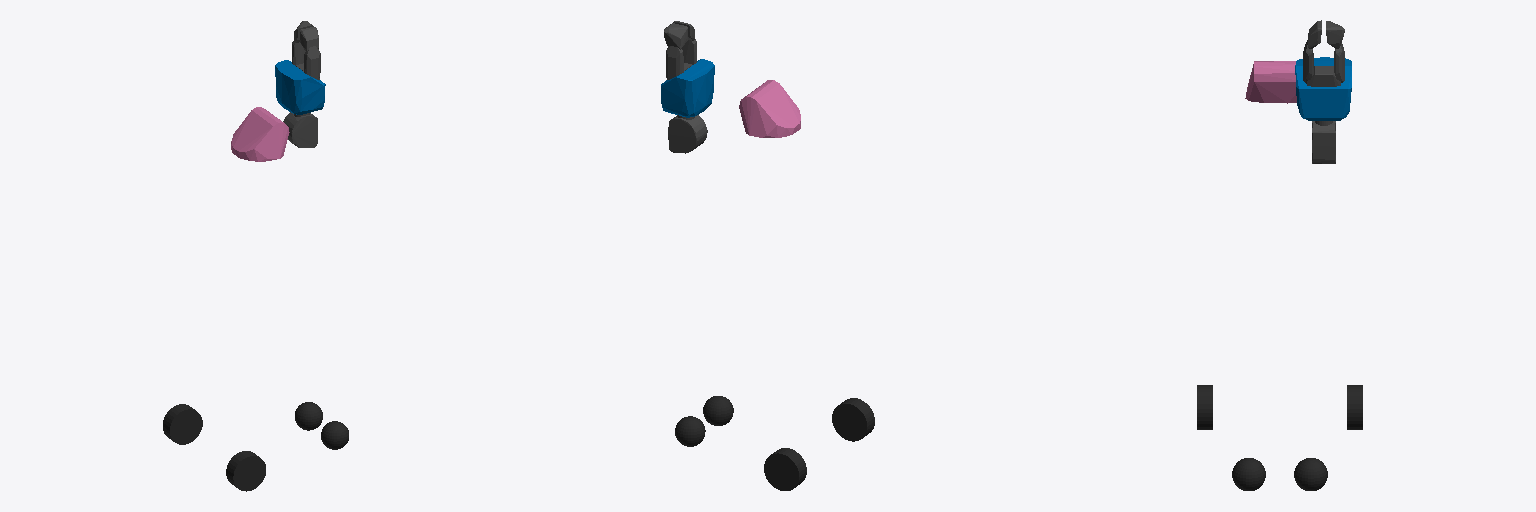
--- Facts derived from the render (not from the file) ---
Views: 3 orthographic renders of the robot side by side, from view 1: azimuth 30°, elevation 25°; view 2: azimuth 150°, elevation 25°; view 3: azimuth 270°, elevation 25°.
Model hsrb with 46 links and 45 joints (15 revolute, 9 continuous, 2 prismatic, 19 fixed), rooted at base_footprint, posed every joint at zero.
Links seen in each view (by area): view 1: head_pan_link, wrist_roll_link, base_l_drive_wheel_link, base_r_drive_wheel_link, wrist_flex_link, base_r_passive_wheel_z_link, base_l_passive_wheel_z_link; view 2: head_pan_link, wrist_roll_link, base_r_drive_wheel_link, base_l_drive_wheel_link, wrist_flex_link, base_r_passive_wheel_z_link, base_l_passive_wheel_z_link; view 3: wrist_roll_link, head_pan_link, wrist_flex_link, base_r_passive_wheel_z_link, base_l_passive_wheel_z_link, base_r_drive_wheel_link, base_l_drive_wheel_link, hand_palm_link.
Link boxes in pixels (x1,y1,x2,y2): head_pan_link: (231, 107, 289, 161); wrist_roll_link: (275, 60, 325, 114); base_l_drive_wheel_link: (163, 404, 202, 444); base_r_drive_wheel_link: (226, 451, 265, 491); wrist_flex_link: (283, 112, 317, 147); base_r_passive_wheel_z_link: (321, 421, 348, 449); base_l_passive_wheel_z_link: (295, 402, 322, 430); head_pan_link: (739, 80, 800, 137); wrist_roll_link: (661, 59, 714, 117); base_r_drive_wheel_link: (832, 398, 874, 441); base_l_drive_wheel_link: (764, 448, 806, 490); wrist_flex_link: (668, 115, 707, 153); base_r_passive_wheel_z_link: (703, 396, 733, 425); base_l_passive_wheel_z_link: (675, 416, 705, 446); wrist_roll_link: (1295, 57, 1351, 120); head_pan_link: (1245, 61, 1296, 103); wrist_flex_link: (1312, 121, 1335, 163); base_r_passive_wheel_z_link: (1232, 458, 1265, 490); base_l_passive_wheel_z_link: (1294, 458, 1327, 490); base_r_drive_wheel_link: (1197, 385, 1212, 429); base_l_drive_wheel_link: (1347, 385, 1362, 429); hand_palm_link: (1307, 66, 1340, 86).
Bounding box of the posed robot: 0.3295 × 0.296 × 0.9163 m (x, y, z).
Meshes: 21 distinct files referenced, 8 mesh visuals loaded (8 OBJ); not drawn: 14 (reference not matched to a file when rendering).

The robot description file, URDF, robot "hsrb":
<?xml version="1.0" ?>
<!-- =================================================================================== -->
<!-- |    This document was autogenerated by xacro from [local-path]/ros_ws/ros/src/hsr_description/robots/hsrb4s.urdf.xacro | -->
<!-- |    EDITING THIS FILE BY HAND IS NOT RECOMMENDED                                 | -->
<!-- =================================================================================== -->
<!--
Copyright (c) 2017, Toyota Motor Corporation
All rights reserved.

Redistribution and use in source and binary forms, with or without
modification, are permitted provided that the following conditions are met:

 * Redistributions of source code must retain the above copyright notice,
   this list of conditions and the following disclaimer.
 * Redistributions in binary form must reproduce the above copyright
   notice, this list of conditions and the following disclaimer in the
   documentation and/or other materials provided with the distribution.
 * Neither the name of Toyota Motor Corporation nor the names of its
   contributors may be used to endorse or promote products derived from
   this software without specific prior written permission.

THIS SOFTWARE IS PROVIDED BY THE COPYRIGHT HOLDERS AND CONTRIBUTORS "AS IS"
AND ANY EXPRESS OR IMPLIED WARRANTIES, INCLUDING, BUT NOT LIMITED TO, THE
IMPLIED WARRANTIES OF MERCHANTABILITY AND FITNESS FOR A PARTICULAR PURPOSE
ARE DISCLAIMED. IN NO EVENT SHALL THE COPYRIGHT OWNER OR CONTRIBUTORS BE
LIABLE FOR ANY DIRECT, INDIRECT, INCIDENTAL, SPECIAL, EXEMPLARY, OR
CONSEQUENTIAL DAMAGES (INCLUDING, BUT NOT LIMITED TO, PROCUREMENT OF
SUBSTITUTE GOODS OR SERVICES; LOSS OF USE, DATA, OR PROFITS; OR BUSINESS
INTERRUPTION) HOWEVER CAUSED AND ON ANY THEORY OF LIABILITY, WHETHER IN
CONTRACT, STRICT LIABILITY, OR TORT (INCLUDING NEGLIGENCE OR OTHERWISE)
ARISING IN ANY WAY OUT OF THE USE OF THIS SOFTWARE, EVEN IF ADVISED OF THE
POSSIBILITY OF SUCH DAMAGE.
-->
<robot name="hsrb" xmlns:controller="http://playerstage.sourceforge.net/gazebo/xmlschema/#controller" xmlns:interface="http://playerstage.sourceforge.net/gazebo/xmlschema/#interface" xmlns:sensor="http://playerstage.sourceforge.net/gazebo/xmlschema/#sensor" xmlns:xacro="http://ros.org/wiki/xacro">
  <material name="body_main">
    <color rgba="1.0 0.0 0.0 1.0"/>
  </material>
  <material name="body_sub">
    <color rgba="0.3333 0.3333 0.3333 1.0"/>
  </material>
  <material name="wheel">
    <color rgba="0.2 0.2 0.2 1.0"/>
  </material>
  <material name="black">
    <color rgba="0.1 0.1 0.1 1.0"/>
  </material>
  <material name="tablet">
    <color rgba="0.1 0.1 0.2 1.0"/>
  </material>
  <!--
    ASUS Xtion PRO LIVE
    Specs from:
    http://www.asus.com/Multimedia/Xtion_PRO_LIVE/#specifications
    -->
  <link name="base_footprint">
    <collision>
      <origin rpy="0 0 0" xyz="0 0 0.071"/>
      <geometry>
        <box size="0.001 0.001 0.001"/>
      </geometry>
   </collision>
  </link>
  <joint name="base_footprint_joint" type="fixed">
    <parent link="base_footprint"/>
    <child link="base_link"/>
  </joint>
  <link name="base_link">
    <inertial>
      <mass value="50.00"/>
      <!-- use dummy weight to stabilize gazebo move base (real value: 11.017971)-->
      <origin xyz="-0.025978 -0.005498 0.17633"/>
      <inertia ixx="0.3742" ixy="0.000434172172" ixz="0.03088" iyy="0.3436" iyz="0.01775" izz="0.1509"/>
    </inertial>
    <visual>
      <geometry>
        <mesh filename="package://hsr_meshes/meshes/base_v2/base_light.obj"/>
      </geometry>
    </visual>
    <visual>
      <geometry>
        <mesh filename="package://hsr_meshes/meshes/base_v2/body_light.obj"/>
      </geometry>
    </visual>
    <visual>
      <geometry>
        <mesh filename="package://hsr_meshes/meshes/base_v2/torso_base.obj"/>
      </geometry>
    </visual>
    <collision>
      <geometry>
        <mesh filename="package://hsr_meshes/meshes/base_v2/base.collision.obj"/>
      </geometry>
    </collision>
  </link>
  <joint name="base_roll_joint" type="continuous">
    <origin rpy="0.0 0.0 0.0" xyz="0.0 0.0 0.0"/>
    <axis xyz="0.0 0.0 1.0"/>
    <limit effort="34.46" velocity="2.5"/>
    <parent link="base_link"/>
    <child link="base_roll_link"/>
    <dynamics damping="0.7"/>
  </joint>
  <link name="base_roll_link">
    <inertial>
      <origin xyz="-0.01948200 0.00219100 0.07101300"/>
      <mass value="10.239419"/>
      <inertia ixx="0.07671000" ixy="-0.01005000" ixz="0.00174900" iyy="0.09057000" iyz="0.00154900" izz="0.14500000"/>
    </inertial>
  </link>
  <joint name="base_r_drive_wheel_joint" type="continuous">
    <origin rpy="0.0 0.0 0.0" xyz="-0.11 -0.133 0.04"/>
    <axis xyz="0.0 1.0 0.0"/>
    <limit effort="11.067" velocity="20.8"/>
    <parent link="base_roll_link"/>
    <child link="base_r_drive_wheel_link"/>
    <dynamics damping="1.0"/>
  </joint>
  <link name="base_r_drive_wheel_link">
    <visual>
      <origin rpy="1.5707963268 0.0 0.0" xyz="0.0 0.0 0.0"/>
      <geometry>
        <cylinder length="0.03" radius="0.04"/>
      </geometry>
      <material name="wheel"/>
    </visual>
    <collision>
      <origin rpy="1.5707963268 0.0 0.0" xyz="0.0 0.0 0.0"/>
      <geometry>
        <cylinder length="0.03" radius="0.04"/>
      </geometry>
    </collision>
    <inertial>
      <mass value="0.2"/>
      <origin xyz="0 0 0"/>
      <inertia ixx="0.015" ixy="0" ixz="0" iyy="0.015" iyz="0" izz="0.015"/>
    </inertial>
  </link>
  <joint name="base_l_drive_wheel_joint" type="continuous">
    <origin rpy="0.0 0.0 0.0" xyz="-0.11 0.133 0.04"/>
    <axis xyz="0.0 1.0 0.0"/>
    <limit effort="11.067" velocity="20.8"/>
    <parent link="base_roll_link"/>
    <child link="base_l_drive_wheel_link"/>
    <dynamics damping="1.0"/>
  </joint>
  <link name="base_l_drive_wheel_link">
    <visual>
      <origin rpy="1.5707963268 0.0 0.0" xyz="0.0 0.0 0.0"/>
      <geometry>
        <cylinder length="0.03" radius="0.04"/>
      </geometry>
      <material name="wheel"/>
    </visual>
    <collision>
      <origin rpy="1.5707963268 0.0 0.0" xyz="0.0 0.0 0.0"/>
      <geometry>
        <cylinder length="0.03" radius="0.04"/>
      </geometry>
    </collision>
    <inertial>
      <mass value="0.2"/>
      <origin xyz="0 0 0"/>
      <inertia ixx="0.015" ixy="0" ixz="0" iyy="0.015" iyz="0" izz="0.015"/>
    </inertial>
  </link>
  <joint name="base_r_passive_wheel_x_frame_joint" type="continuous">
    <origin rpy="0.0 0.0 0.0" xyz="0.1495                 -0.055                 0.03"/>
    <axis xyz="1.0 0.0 0.0"/>
    <limit effort="1.0" velocity="3.0"/>
    <parent link="base_roll_link"/>
    <child link="base_r_passive_wheel_x_frame"/>
    <dynamics damping="1.0"/>
  </joint>
  <link name="base_r_passive_wheel_x_frame">
    <inertial>
      <mass value="0.2"/>
      <origin xyz="0 0 0"/>
      <inertia ixx="0.015" ixy="0" ixz="0" iyy="0.015" iyz="0" izz="0.015"/>
    </inertial>
  </link>
  <joint name="base_r_passive_wheel_y_frame_joint" type="continuous">
    <axis xyz="0.0 1.0 0.0"/>
    <limit effort="8.85" velocity="10.0"/>
    <parent link="base_r_passive_wheel_x_frame"/>
    <child link="base_r_passive_wheel_y_frame"/>
  </joint>
  <link name="base_r_passive_wheel_y_frame">
    <inertial>
      <mass value="0.2"/>
      <origin xyz="0 0 0"/>
      <inertia ixx="0.015" ixy="0" ixz="0" iyy="0.015" iyz="0" izz="0.015"/>
    </inertial>
  </link>
  <joint name="base_r_passive_wheel_z_joint" type="continuous">
    <axis xyz="0.0 0.0 1.0"/>
    <limit effort="8.85" velocity="10.0"/>
    <parent link="base_r_passive_wheel_y_frame"/>
    <child link="base_r_passive_wheel_z_link"/>
  </joint>
  <link name="base_r_passive_wheel_z_link">
    <visual>
      <geometry>
        <sphere radius="0.03"/>
      </geometry>
      <material name="wheel"/>
    </visual>
    <collision>
      <geometry>
        <sphere radius="0.03"/>
      </geometry>
    </collision>
    <inertial>
      <mass value="0.2"/>
      <origin xyz="0 0 0"/>
      <inertia ixx="0.015" ixy="0" ixz="0" iyy="0.015" iyz="0" izz="0.015"/>
    </inertial>
  </link>
  <joint name="base_l_passive_wheel_x_frame_joint" type="continuous">
    <origin rpy="0.0 0.0 0.0" xyz="0.1495                 0.055                 0.03"/>
    <axis xyz="1.0 0.0 0.0"/>
    <limit effort="1.0" velocity="3.0"/>
    <parent link="base_roll_link"/>
    <child link="base_l_passive_wheel_x_frame"/>
    <dynamics damping="1.0"/>
  </joint>
  <link name="base_l_passive_wheel_x_frame">
    <inertial>
      <mass value="0.2"/>
      <origin xyz="0 0 0"/>
      <inertia ixx="0.015" ixy="0" ixz="0" iyy="0.015" iyz="0" izz="0.015"/>
    </inertial>
  </link>
  <joint name="base_l_passive_wheel_y_frame_joint" type="continuous">
    <axis xyz="0.0 1.0 0.0"/>
    <limit effort="8.85" velocity="10.0"/>
    <parent link="base_l_passive_wheel_x_frame"/>
    <child link="base_l_passive_wheel_y_frame"/>
  </joint>
  <link name="base_l_passive_wheel_y_frame">
    <inertial>
      <mass value="0.2"/>
      <origin xyz="0 0 0"/>
      <inertia ixx="0.015" ixy="0" ixz="0" iyy="0.015" iyz="0" izz="0.015"/>
    </inertial>
  </link>
  <joint name="base_l_passive_wheel_z_joint" type="continuous">
    <axis xyz="0.0 0.0 1.0"/>
    <limit effort="8.85" velocity="10.0"/>
    <parent link="base_l_passive_wheel_y_frame"/>
    <child link="base_l_passive_wheel_z_link"/>
  </joint>
  <link name="base_l_passive_wheel_z_link">
    <visual>
      <geometry>
        <sphere radius="0.03"/>
      </geometry>
      <material name="wheel"/>
    </visual>
    <collision>
      <geometry>
        <sphere radius="0.03"/>
      </geometry>
    </collision>
    <inertial>
      <mass value="0.2"/>
      <origin xyz="0 0 0"/>
      <inertia ixx="0.015" ixy="0" ixz="0" iyy="0.015" iyz="0" izz="0.015"/>
    </inertial>
  </link>
  <joint name="base_range_sensor_joint" type="fixed">
    <origin rpy="0.0 0.0 0.0" xyz="0.1675 0.0 0.1844"/>
    <parent link="base_link"/>
    <child link="base_range_sensor_link"/>
  </joint>
  <link name="base_range_sensor_link">
    <visual>
      <geometry>
        <mesh filename="package://hsr_meshes/meshes/sensors/laser.obj"/>
      </geometry>
    </visual>
    <collision>
      <geometry>
        <mesh filename="package://hsr_meshes/meshes/sensors/laser.obj"/>
      </geometry>
    </collision>
  </link>
  <gazebo reference="base_range_sensor_link">
    <sensor name="base_range_sensor" type="ray">
      <pose>0 0 0 0 0 0</pose>
      <update_rate>30.0</update_rate>
      <visualize>true</visualize>
      <ray>
        <scan>
          <horizontal>
            <samples>721</samples>
            <resolution>1</resolution>
            <min_angle>-2.1</min_angle>
            <max_angle>2.1</max_angle>
          </horizontal>
        </scan>
        <range>
          <min>0.05</min>
          <max>60</max>
          <resolution>0.001</resolution>
        </range>
      </ray>
      <plugin filename="libgazebo_ros_laser.so" name="laser">
        <topicName>hsrb/base_scan</topicName>
        <frameName>base_range_sensor_link</frameName>
      </plugin>
    </sensor>
  </gazebo>
  <joint name="base_imu_frame_joint" type="fixed">
    <origin rpy="3.14159265359 0.0 0.0" xyz="0.0005 0.1296 0.181"/>
    <parent link="base_link"/>
    <child link="base_imu_frame"/>
  </joint>
  <link name="base_imu_frame"/>
  <gazebo reference="base_imu_frame">
    <sensor name="base_imu" type="imu">
      <update_rate>10.0</update_rate>
      <imu>
        <noise>
          <type>gaussian</type>
          <rate>
            <mean>0.0</mean>
            <stddev>2e-4</stddev>
            <bias_mean>0.0000075</bias_mean>
            <bias_stddev>0.0000008</bias_stddev>
          </rate>
          <accel>
            <mean>0.0</mean>
            <stddev>1.7e-2</stddev>
            <bias_mean>0.1</bias_mean>
            <bias_stddev>0.001</bias_stddev>
          </accel>
        </noise>
      </imu>
    </sensor>
  </gazebo>
  <gazebo>
    <!-- IMU Plugin is a model plugin. Then it should be atached to HSR-B model. -->
    <plugin filename="libgazebo_ros_imu.so" name="base_imu_plugin">
      <imuName>base_imu</imuName>
      <topicName>base_imu/data</topicName>
      <serviceName>base_imu/calibrate</serviceName>
      <frameName>base_imu_frame</frameName>
      <bodyName>base_link</bodyName>
      <robotNamespace>hsrb</robotNamespace>
    </plugin>
  </gazebo>
  <gazebo reference="base_link">
    <selfCollide>false</selfCollide>
    <gravity>true</gravity>
    <mu1>0.9</mu1>
    <mu2>0.9</mu2>
  </gazebo>
  <gazebo reference="base_roll_link">
    <selfCollide>false</selfCollide>
    <gravity>true</gravity>
    <mu1>0.9</mu1>
    <mu2>0.9</mu2>
  </gazebo>
  <gazebo reference="base_r_drive_wheel_link">
    <selfCollide>false</selfCollide>
    <gravity>true</gravity>
    <turnGravityOff>false</turnGravityOff>
    <kp>1000000.0</kp>
    <kd>10.0</kd>
    <mu1>1.0</mu1>
    <mu2>1.0</mu2>
    <fdir1>1 0 0</fdir1>
    <maxVel>1.0</maxVel>
    <minDepth>0.00</minDepth>
    <material value="Gazebo/FlatBlack"/>
  </gazebo>
  <gazebo reference="base_l_drive_wheel_link">
    <selfCollide>false</selfCollide>
    <gravity>true</gravity>
    <turnGravityOff>false</turnGravityOff>
    <kp>1000000.0</kp>
    <kd>10.0</kd>
    <mu1>1.0</mu1>
    <mu2>1.0</mu2>
    <fdir1>1 0 0</fdir1>
    <maxVel>1.0</maxVel>
    <minDepth>0.00</minDepth>
    <material value="Gazebo/FlatBlack"/>
  </gazebo>
  <gazebo reference="base_r_passive_wheel_z_link">
    <selfCollide>false</selfCollide>
    <gravity>true</gravity>
    <mu1>0.1</mu1>
    <mu2>0.1</mu2>
    <maxVel>1.0</maxVel>
    <material value="Gazebo/FlatBlack"/>
  </gazebo>
  <gazebo reference="base_l_passive_wheel_z_link">
    <selfCollide>false</selfCollide>
    <gravity>true</gravity>
    <mu1>0.1</mu1>
    <mu2>0.1</mu2>
    <maxVel>1.0</maxVel>
    <material value="Gazebo/FlatBlack"/>
  </gazebo>
  <gazebo reference="base_range_sensor_link">
    <selfCollide>false</selfCollide>
    <gravity>true</gravity>
    <mu1>0.9</mu1>
    <mu2>0.9</mu2>
  </gazebo>
  <gazebo reference="base_imu_frame">
    <selfCollide>false</selfCollide>
    <gravity>true</gravity>
    <mu1>0.9</mu1>
    <mu2>0.9</mu2>
  </gazebo>
  <transmission name="base_transmission">
    <type>transmission_interface/SimpleTransmission</type>
    <joint name="base_r_drive_wheel_joint">
      <hardwareInterface>VelocityJointInterface</hardwareInterface>
    </joint>
    <actuator name="base_r_drive_wheel_joint_actuator">
      <hardwareInterface>VelocityJointInterface</hardwareInterface>
      <mechanicalReduction>1</mechanicalReduction>
    </actuator>
  </transmission>
  <transmission name="base_transmission">
    <type>transmission_interface/SimpleTransmission</type>
    <joint name="base_l_drive_wheel_joint">
      <hardwareInterface>VelocityJointInterface</hardwareInterface>
    </joint>
    <actuator name="base_l_drive_wheel_joint_actuator">
      <hardwareInterface>VelocityJointInterface</hardwareInterface>
      <mechanicalReduction>1</mechanicalReduction>
    </actuator>
  </transmission>
  <transmission name="base_roll_joint_transmission">
    <type>transmission_interface/SimpleTransmission</type>
    <joint name="base_roll_joint">
      <hardwareInterface>PositionJointInterface</hardwareInterface>
    </joint>
    <actuator name="base_roll_joint_actuator">
      <hardwareInterface>PositionJointInterface</hardwareInterface>
      <mechanicalReduction>1</mechanicalReduction>
    </actuator>
  </transmission>
  <joint name="torso_lift_joint" type="prismatic">
    <origin rpy="0.0 0.0 0.0" xyz="0.0 0.0 0.752"/>
    <!-- <origin xyz="0.0 0.0 0.752" rpy="0.0 0.0 0.0" /> -->
    <axis xyz="0.0 0.0 1.0"/>
    <limit effort="100.0" lower="0.0" upper="0.345" velocity="0.1"/>
    <parent link="base_link"/>
    <child link="torso_lift_link"/>
    <mimic joint="arm_lift_joint" multiplier="0.5"/>
    <dynamics damping="500.0"/>
  </joint>
  <link name="torso_lift_link">
    <inertial>
      <mass value="3.420779"/>
      <origin xyz="-0.051142 0.003454 -0.2905"/>
      <inertia ixx="0.1045" ixy="-0.000460884801" ixz="0.000101130383" iyy="0.105" iyz="0.002941" izz="0.01284"/>
    </inertial>
    <visual>
      <geometry>
        <mesh filename="package://hsr_meshes/meshes/torso_v0/torso_light.obj"/>
      </geometry>
    </visual>
    <collision>
      <geometry>
        <mesh filename="package://hsr_meshes/meshes/torso_v0/torso.collision.obj"/>
      </geometry>
    </collision>
  </link>
  <gazebo reference="torso_lift_link">
    <selfCollide>false</selfCollide>
    <gravity>true</gravity>
    <mu1>0.9</mu1>
    <mu2>0.9</mu2>
  </gazebo>
  <gazebo reference="torso_lift_joint">
    </gazebo>
  <gazebo>
        </gazebo>
  <joint name="head_pan_joint" type="revolute">
    <origin rpy="0.0 0.0 0.0" xyz="0.0 0.0 0.0"/>
    <axis xyz="0.0 0.0 1.0"/>
    <limit effort="100.0" lower="-3.84" upper="1.75" velocity="1.0"/>
    <parent link="torso_lift_link"/>
    <child link="head_pan_link"/>
    <dynamics damping="1.0"/>
  </joint>
  <link name="head_pan_link">
    <inertial>
      <mass value="0.571903"/>
      <origin xyz="0.001724 -0.001969 -0.028886"/>
      <inertia ixx="0.0009711421" ixy="0.00006179487" ixz="-0.000113923121" iyy="0.00065335493" iyz="0.000069036305" izz="0.000765202576"/>
    </inertial>
    <visual>
      <geometry>
        <mesh filename="package://hsr_meshes/meshes/head_v1/head_pan.obj"/>
      </geometry>
    </visual>
    <collision>
      <geometry>
        <mesh filename="package://hsr_meshes/meshes/head_v1/head_pan.obj"/>
      </geometry>
    </collision>
  </link>
  <joint name="head_tilt_joint" type="revolute">
    <origin rpy="0.0 0.0 0.0" xyz="0.02 0.0 0.0"/>
    <axis xyz="0.0 -1.0 0.0"/>
    <limit effort="100.0" lower="-1.57" upper="0.52" velocity="1.0"/>
    <parent link="head_pan_link"/>
    <child link="head_tilt_link"/>
    <dynamics damping="10.0"/>
  </joint>
  <link name="head_tilt_link">
    <inertial>
      <mass value="2.123802"/>
      <origin xyz="-0.055376 -0.002436 0.117733"/>
      <inertia ixx="0.01941" ixy="-0.000138091054" ixz="0.005035" iyy="0.01498" iyz="0.000087492537" izz="0.01167"/>
    </inertial>
    <visual>
      <geometry>
        <mesh filename="package://hsr_meshes/meshes/head_v1/head_upper.obj"/>
      </geometry>
    </visual>
    <visual>
      <geometry>
        <mesh filename="package://hsr_meshes/meshes/head_v1/head_tilt.obj"/>
      </geometry>
    </visual>
    <visual>
      <geometry>
        <mesh filename="package://hsr_meshes/meshes/head_v1/tablet_base.obj"/>
      </geometry>
    </visual>
    <collision>
      <geometry>
        <mesh filename="package://hsr_meshes/meshes/head_v1/head.obj"/>
      </geometry>
    </collision>
    <collision>
      <geometry>
        <mesh filename="package://hsr_meshes/meshes/head_v1/tablet.obj"/>
      </geometry>
    </collision>
  </link>
  <joint name="head_l_stereo_camera_joint" type="fixed">
    <origin rpy="-1.5707963268 0.0 -1.5707963268" xyz="0.02 0.07 0.061"/>
    <parent link="head_tilt_link"/>
    <child link="head_l_stereo_camera_link"/>
  </joint>
  <link name="head_l_stereo_camera_link">
    <visual>
      <origin rpy="0.0 0.0 0.0" xyz="0 0 0"/>
      <geometry>
        <mesh filename="package://hsr_meshes/meshes/sensors/head_camera.obj"/>
      </geometry>
    </visual>
  </link>
  <joint name="head_l_stereo_camera_gazebo_frame_joint" type="fixed">
    <origin rpy="1.5707963268 -1.5707963268 0.0" xyz="0 0 0"/>
    <parent link="head_l_stereo_camera_link"/>
    <child link="head_l_stereo_camera_gazebo_frame"/>
  </joint>
  <link name="head_l_stereo_camera_gazebo_frame"/>
  <gazebo reference="head_l_stereo_camera_gazebo_frame">
    <sensor name="head_l_stereo_camera" type="camera">
      <update_rate>4.0</update_rate>
      <camera name="head_l_stereo_camera">
        <horizontal_fov>1.16762527</horizontal_fov>
        <image>
          <width>1280</width>
          <height>960</height>
          <format>R8G8B8</format>
        </image>
        <clip>
          <near>0.05</near>
          <far>100</far>
        </clip>
        <noise>
          <type>gaussian</type>
          <mean>0.0</mean>
          <stddev>0.007</stddev>
        </noise>
      </camera>
      <plugin filename="libgazebo_ros_camera.so" name="camera_controller">
        <alwaysOn>0</alwaysOn>
        <updateRate>0.0</updateRate>
        <cameraName>head_l_stereo_camera</cameraName>
        <imageTopicName>image_rect_color</imageTopicName>
        <cameraInfoTopicName>camera_info</cameraInfoTopicName>
        <frameName>head_l_stereo_camera_frame</frameName>
        <robotNamespace>hsrb</robotNamespace>
        <hackBaseline>0.0</hackBaseline>
        <distortionK1>0.0</distortionK1>
        <distortionK2>0.0</distortionK2>
        <distortionK3>0.0</distortionK3>
        <distortionT1>0.0</distortionT1>
        <distortionT2>0.0</distortionT2>
      </plugin>
    </sensor>
  </gazebo>
  <joint name="head_r_stereo_camera_joint" type="fixed">
    <origin rpy="-1.5707963268 0.0 -1.5707963268" xyz="0.02 -0.07 0.061"/>
    <parent link="head_tilt_link"/>
    <child link="head_r_stereo_camera_link"/>
  </joint>
  <link name="head_r_stereo_camera_link">
    <visual>
      <origin rpy="0.0 0.0 0.0" xyz="0 0 0"/>
      <geometry>
        <mesh filename="package://hsr_meshes/meshes/sensors/head_camera.obj"/>
      </geometry>
    </visual>
  </link>
  <joint name="head_r_stereo_camera_gazebo_frame_joint" type="fixed">
    <origin rpy="1.5707963268 -1.5707963268 0.0" xyz="0 0 0"/>
    <parent link="head_r_stereo_camera_link"/>
    <child link="head_r_stereo_camera_gazebo_frame"/>
  </joint>
  <link name="head_r_stereo_camera_gazebo_frame"/>
  <gazebo reference="head_r_stereo_camera_gazebo_frame">
    <sensor name="head_r_stereo_camera" type="camera">
      <update_rate>4.0</update_rate>
      <camera name="head_r_stereo_camera">
        <horizontal_fov>1.16762527</horizontal_fov>
        <image>
          <width>1280</width>
          <height>960</height>
          <format>R8G8B8</format>
        </image>
        <clip>
          <near>0.05</near>
          <far>100</far>
        </clip>
        <noise>
          <type>gaussian</type>
          <mean>0.0</mean>
          <stddev>0.007</stddev>
        </noise>
      </camera>
      <plugin filename="libgazebo_ros_camera.so" name="camera_controller">
        <alwaysOn>0</alwaysOn>
        <updateRate>0.0</updateRate>
        <cameraName>head_r_stereo_camera</cameraName>
        <imageTopicName>image_rect_color</imageTopicName>
        <cameraInfoTopicName>camera_info</cameraInfoTopicName>
        <frameName>head_r_stereo_camera_frame</frameName>
        <robotNamespace>hsrb</robotNamespace>
        <hackBaseline>0.14</hackBaseline>
        <distortionK1>0.0</distortionK1>
        <distortionK2>0.0</distortionK2>
        <distortionK3>0.0</distortionK3>
        <distortionT1>0.0</distortionT1>
        <distortionT2>0.0</distortionT2>
      </plugin>
    </sensor>
  </gazebo>
  <joint name="head_center_camera_frame_joint" type="fixed">
    <origin rpy="-1.5707963268 0.0 -1.5707963268" xyz="0.0195 0.0 0.061"/>
    <parent link="head_tilt_link"/>
    <child link="head_center_camera_frame"/>
  </joint>
  <link name="head_center_camera_frame"/>
  <joint name="head_center_camera_gazebo_frame_joint" type="fixed">
    <origin rpy="1.5707963268 -1.5707963268 0.0" xyz="0 0 0"/>
    <parent link="head_center_camera_frame"/>
    <child link="head_center_camera_gazebo_frame"/>
  </joint>
  <link name="head_center_camera_gazebo_frame"/>
  <gazebo reference="head_center_camera_gazebo_frame">
    <sensor name="head_center_camera" type="camera">
      <update_rate>10.0</update_rate>
      <camera name="head_center_camera">
        <horizontal_fov>2.00</horizontal_fov>
        <image>
          <width>640</width>
          <height>480</height>
          <format>R8G8B8</format>
        </image>
        <clip>
          <near>0.05</near>
          <far>100</far>
        </clip>
        <noise>
          <type>gaussian</type>
          <mean>0.0</mean>
          <stddev>0.007</stddev>
        </noise>
      </camera>
      <plugin filename="libhsrb_gazebo_ros_camera.so" name="camera_controller">
        <robotNamespace>hsrb</robotNamespace>
        <alwaysOn>0</alwaysOn>
        <updateRate>0.0</updateRate>
        <cameraName>head_center_camera</cameraName>
        <imageTopicName>image_raw</imageTopicName>
        <cameraInfoTopicName>camera_info</cameraInfoTopicName>
        <frameName>head_center_camera_frame</frameName>
        <hackBaseline>0.07</hackBaseline>
        <distortionK1>0.0</distortionK1>
        <distortionK2>0.0</distortionK2>
        <distortionK3>0.0</distortionK3>
        <distortionT1>0.0</distortionT1>
        <distortionT2>0.0</distortionT2>
      </plugin>
    </sensor>
  </gazebo>
  <joint name="head_rgbd_sensor_joint" type="fixed">
    <origin rpy="-1.5707963268 0.0 -1.5707963268" xyz="-0.079796 0.022 0.215172"/>
    <parent link="head_tilt_link"/>
    <child link="head_rgbd_sensor_link"/>
  </joint>
  <link name="head_rgbd_sensor_link">
    <visual>
      <origin rpy="0.0 0.0 0.0" xyz="0 0 0"/>
      <geometry>
        <mesh filename="package://hsr_meshes/meshes/sensors/rgbd_light.obj"/>
      </geometry>
    </visual>
    <collision>
      <origin rpy="0.0 0.0 0.0" xyz="0 0 0"/>
      <geometry>
        <mesh filename="package://hsr_meshes/meshes/sensors/rgbd.obj"/>
      </geometry>
    </collision>
  </link>
  <joint name="head_rgbd_sensor_gazebo_frame_joint" type="fixed">
    <origin rpy="1.5707963268 -1.5707963268 0.0" xyz="0 0 0"/>
    <parent link="head_rgbd_sensor_link"/>
    <child link="head_rgbd_sensor_gazebo_frame"/>
  </joint>
  
        `
        
  <link name="head_rgbd_sensor_gazebo_frame"/>
  <gazebo reference="head_rgbd_sensor_gazebo_frame">
    <sensor name="openni_camera_camera" type="depth">
      <always_on>0</always_on>
      <update_rate>30</update_rate>
      <visualize>true</visualize>
      <camera>
        <horizontal_fov>1.047</horizontal_fov>
        <image>
          <width>640</width>
          <height>480</height>
          <format>B8G8R8</format>
        </image>
        <depth_camera>
                    </depth_camera>
        <clip>
          <near>0.1</near>
          <far>100</far>
        </clip>
      </camera>
      <plugin filename="libgazebo_ros_openni_kinect.so" name="head_rgbd_sensor_controller">
        <alwaysOn>true</alwaysOn>
        <baseline>0.2</baseline>
        <updateRate>1.0</updateRate>
        <cameraName>head_rgbd_sensor</cameraName>
        <frameName>head_rgbd_sensor_rgb_frame</frameName>
        <imageTopicName>/hsrb/head_rgbd_sensor/rgb/image_rect_color</imageTopicName>
        <cameraInfoTopicName>/hsrb/head_rgbd_sensor/rgb/camera_info</cameraInfoTopicName>
        <depthImageTopicName>/hsrb/head_rgbd_sensor/depth_registered/image_rect_raw</depthImageTopicName>
        <pointCloudTopicName>/hsrb/head_rgbd_sensor/depth_registered/rectified_points</pointCloudTopicName>
        <depthImageCameraInfoTopicName>/hsrb/head_rgbd_sensor/depth_registered/camera_info</depthImageCameraInfoTopicName>
        <pointCloudCutoff>0.5</pointCloudCutoff>
        <pointCloudCutoffMax>9.2</pointCloudCutoffMax>
        <distortionK1>0.0</distortionK1>
        <distortionK2>0.0</distortionK2>
        <distortionK3>0.0</distortionK3>
        <distortionT1>0.0</distortionT1>
        <distortionT2>0.0</distortionT2>
        <CxPrime>0.0</CxPrime>
        <Cx>0.0</Cx>
        <Cy>0.0</Cy>
        <focalLength>0.0</focalLength>
        <hackBaseline>0</hackBaseline>
      </plugin>
    </sensor>
  </gazebo>
  <gazebo reference="head_pan_link">
    <selfCollide>false</selfCollide>
    <gravity>true</gravity>
    <mu1>0.9</mu1>
    <mu2>0.9</mu2>
  </gazebo>
  <gazebo reference="head_tilt_link">
    <selfCollide>false</selfCollide>
    <gravity>true</gravity>
    <mu1>0.9</mu1>
    <mu2>0.9</mu2>
  </gazebo>
  <gazebo reference="head_l_stereo_camera_link">
    <selfCollide>false</selfCollide>
    <gravity>true</gravity>
    <mu1>0.9</mu1>
    <mu2>0.9</mu2>
  </gazebo>
  <gazebo reference="head_r_stereo_camera_link">
    <selfCollide>false</selfCollide>
    <gravity>true</gravity>
    <mu1>0.9</mu1>
    <mu2>0.9</mu2>
  </gazebo>
  <gazebo reference="head_center_camera_frame">
    <selfCollide>false</selfCollide>
    <gravity>false</gravity>
    <mu1>0.9</mu1>
    <mu2>0.9</mu2>
  </gazebo>
  <gazebo reference="head_rgbd_sensor_link">
    <selfCollide>false</selfCollide>
    <gravity>true</gravity>
    <mu1>0.9</mu1>
    <mu2>0.9</mu2>
  </gazebo>
  <gazebo reference="head_pan_joint">
  </gazebo>
  <gazebo reference="head_tilt_joint">
  </gazebo>
  <transmission name="head_pan_joint_transmission">
    <type>transmission_interface/SimpleTransmission</type>
    <joint name="head_pan_joint">
      <hardwareInterface>PositionJointInterface</hardwareInterface>
    </joint>
    <actuator name="head_pan_joint_actuator">
      <hardwareInterface>PositionJointInterface</hardwareInterface>
      <mechanicalReduction>1</mechanicalReduction>
    </actuator>
  </transmission>
  <transmission name="head_tilt_joint_transmission">
    <type>transmission_interface/SimpleTransmission</type>
    <joint name="head_tilt_joint">
      <hardwareInterface>PositionJointInterface</hardwareInterface>
    </joint>
    <actuator name="head_tilt_joint_actuator">
      <hardwareInterface>PositionJointInterface</hardwareInterface>
      <mechanicalReduction>1</mechanicalReduction>
    </actuator>
  </transmission>
  <joint name="arm_lift_joint" type="prismatic">
    <origin rpy="0.0 0.0 0.0" xyz="0.0 0.0 0.340"/>
    <axis xyz="0.0 0.0 1.0"/>
    <limit effort="100.0" lower="0.0" upper="0.69" velocity="0.2"/>
    <parent link="base_link"/>
    <child link="arm_lift_link"/>
    <dynamics damping="1.0"/>
  </joint>
  <link name="arm_lift_link">
    <inertial>
      <mass value="1.275819"/>
      <origin xyz="0.051549 0.042438 -0.064145"/>
      <inertia ixx="0.004633" ixy="0.000475272668" ixz="-0.002403" iyy="0.008065" iyz="-0.000100268629" izz="0.007672"/>
    </inertial>
    <visual>
      <geometry>
        <mesh filename="package://hsr_meshes/meshes/arm_v0/shoulder.obj"/>
      </geometry>
    </visual>
    <collision>
      <geometry>
        <mesh filename="package://hsr_meshes/meshes/arm_v0/shoulder.collision.obj"/>
      </geometry>
    </collision>
  </link>
  <joint name="arm_flex_joint" type="revolute">
    <origin rpy="0.0 0.0 0.0" xyz="0.141 0.078 0.0"/>
    <axis xyz="0.0 -1.0 0.0"/>
    <limit effort="100.0" lower="-2.62" upper="0.0" velocity="1.2"/>
    <parent link="arm_lift_link"/>
    <child link="arm_flex_link"/>
    <dynamics damping="1.0"/>
  </joint>
  <link name="arm_flex_link">
    <inertial>
      <mass value="1.339295"/>
      <origin xyz="-0.000459 0.006583 0.106069"/>
      <inertia ixx="0.00889053" ixy="0.0" ixz="0.0" iyy="0.00825549" iyz="0.0" izz="0.00190511"/>
    </inertial>
    <visual>
      <geometry>
        <mesh filename="package://hsr_meshes/meshes/arm_v0/arm_flex_light.obj"/>
      </geometry>
    </visual>
    <collision>
      <geometry>
        <mesh filename="package://hsr_meshes/meshes/arm_v0/arm_flex.collision.obj"/>
      </geometry>
    </collision>
  </link>
  <joint name="arm_roll_joint" type="revolute">
    <origin rpy="0.0 0.0 0.0" xyz="0.005 0.0 0.345"/>
    <axis xyz="0.0 0.0 1.0"/>
    <limit effort="100.0" lower="-2.09" upper="3.84" velocity="2.0"/>
    <parent link="arm_flex_link"/>
    <child link="arm_roll_link"/>
    <dynamics damping="0.1"/>
  </joint>
  <link name="arm_roll_link">
    <inertial>
      <mass value="0.247936"/>
      <origin xyz="-0.006927 0.002039 -0.064837"/>
      <inertia ixx="0.004267" ixy="-0.000018322199" ixz="0.000017984455" iyy="0.000780923828" iyz="-0.00001392334" izz="0.00412"/>
    </inertial>
    <visual>
      <geometry>
        <mesh filename="package://hsr_meshes/meshes/arm_v0/arm_roll_light.obj"/>
      </geometry>
    </visual>
    <collision>
      <geometry>
        <mesh filename="package://hsr_meshes/meshes/arm_v0/arm_roll.collision.obj"/>
      </geometry>
    </collision>
  </link>
  <gazebo reference="arm_lift_link">
    <selfCollide>false</selfCollide>
    <gravity>true</gravity>
    <mu1>0.9</mu1>
    <mu2>0.9</mu2>
  </gazebo>
  <gazebo reference="arm_flex_link">
    <selfCollide>false</selfCollide>
    <gravity>true</gravity>
    <mu1>0.9</mu1>
    <mu2>0.9</mu2>
  </gazebo>
  <gazebo reference="arm_roll_link">
    <selfCollide>false</selfCollide>
    <gravity>true</gravity>
    <mu1>0.9</mu1>
    <mu2>0.9</mu2>
  </gazebo>
  <gazebo reference="arm_lift_joint">
  </gazebo>
  <gazebo reference="arm_flex_joint">
  </gazebo>
  <gazebo reference="arm_roll_joint">
  </gazebo>
  <transmission name="arm_lift_joint_transmission">
    <type>transmission_interface/SimpleTransmission</type>
    <joint name="arm_lift_joint">
      <hardwareInterface>PositionJointInterface</hardwareInterface>
    </joint>
    <actuator name="arm_lift_joint_actuator">
      <hardwareInterface>PositionJointInterface</hardwareInterface>
      <mechanicalReduction>1</mechanicalReduction>
    </actuator>
  </transmission>
  <transmission name="arm_flex_joint_transmission">
    <type>transmission_interface/SimpleTransmission</type>
    <joint name="arm_flex_joint">
      <hardwareInterface>PositionJointInterface</hardwareInterface>
    </joint>
    <actuator name="arm_flex_joint_actuator">
      <hardwareInterface>PositionJointInterface</hardwareInterface>
      <mechanicalReduction>1</mechanicalReduction>
    </actuator>
  </transmission>
  <transmission name="arm_roll_joint_transmission">
    <type>transmission_interface/SimpleTransmission</type>
    <joint name="arm_roll_joint">
      <hardwareInterface>PositionJointInterface</hardwareInterface>
    </joint>
    <actuator name="arm_roll_joint_actuator">
      <hardwareInterface>PositionJointInterface</hardwareInterface>
      <mechanicalReduction>1</mechanicalReduction>
    </actuator>
  </transmission>
  <joint name="wrist_flex_joint" type="revolute">
    <origin rpy="0.0 0.0 0.0" xyz="0.0 0.0 0.0"/>
    <axis xyz="0.0 -1.0 0.0"/>
    <limit effort="100.0" lower="-1.92" upper="1.22" velocity="1.5"/>
    <parent link="arm_roll_link"/>
    <child link="wrist_flex_link"/>
    <dynamics damping="1.0"/>
  </joint>
  <link name="wrist_flex_link">
    <inertial>
      <mass value="0.681225"/>
      <origin xyz="0.000131 -0.003929 0.00217"/>
      <inertia ixx="0.000074353558" ixy="0.000000494515" ixz="0.000000022937" iyy="0.000038432887" iyz="-0.00000255576" izz="0.000064680918"/>
    </inertial>
    <visual>
      <geometry>
        <mesh filename="package://hsr_meshes/meshes/wrist_v0/wrist_flex.obj"/>
      </geometry>
      <material name="body_sub"/>
    </visual>
    <visual>
      <origin rpy="0.0 0.0 0.0" xyz="0.0 0.0 0.04"/>
      <geometry>
        <cylinder length="0.02" radius="0.017"/>
      </geometry>
      <material name="body_sub"/>
    </visual>
    <collision>
      <origin rpy="0.0 0.0 0.0" xyz="0.0 0.0 0.03"/>
      <geometry>
        <cylinder length="0.04" radius="0.017"/>
      </geometry>
    </collision>
  </link>
  <joint name="wrist_roll_joint" type="revolute">
    <origin rpy="0.0 0.0 0.0" xyz="0.0 0.0 0.0"/>
    <axis xyz="0.0 0.0 1.0"/>
    <limit effort="100.0" lower="-1.92" upper="3.67" velocity="1.5"/>
    <parent link="wrist_flex_link"/>
    <child link="wrist_roll_link"/>
    <dynamics damping="1.0"/>
  </joint>
  <link name="wrist_roll_link">
    <inertial>
      <mass value="0.761692"/>
      <origin xyz="-0.001416 -0.001547 0.081689"/>
      <inertia ixx="0.000805633819" ixy="-0.000014431758" ixz="0.000028204659" iyy="0.000768077165" iyz="0.000022460226" izz="0.000453406611"/>
    </inertial>
    <visual>
      <geometry>
        <mesh filename="package://hsr_meshes/meshes/wrist_v0/wrist_roll.obj"/>
      </geometry>
    </visual>
    <collision>
      <geometry>
        <mesh filename="package://hsr_meshes/meshes/wrist_v0/wrist_roll.collision.obj"/>
      </geometry>
    </collision>
  </link>
  <joint name="wrist_ft_sensor_frame_joint" type="fixed">
    <origin rpy="3.14159265359 0.0 0.0" xyz="0.0 0.0 0.0735"/>
    <parent link="wrist_roll_link"/>
    <child link="wrist_ft_sensor_frame"/>
  </joint>
  <link name="wrist_ft_sensor_frame"/>
  <gazebo reference="wrist_roll_joint">
    <provideFeedback>true</provideFeedback>
  </gazebo>
  <gazebo>
    <plugin filename="libgazebo_ros_force.so" name="ft_sensor">
      <updateRate>30.0</updateRate>
      <topicName>wrist_wrench</topicName>
      <jointName>wrist_roll_joint</jointName>
      <bodyName>wrist_roll_link</bodyName>
      <robotNamespace>hsrb</robotNamespace>
    </plugin>
  </gazebo>
  <gazebo reference="wrist_flex_link">
    <selfCollide>false</selfCollide>
    <gravity>true</gravity>
    <mu1>0.9</mu1>
    <mu2>0.9</mu2>
  </gazebo>
  <gazebo reference="wrist_roll_link">
    <selfCollide>false</selfCollide>
    <gravity>true</gravity>
    <mu1>0.9</mu1>
    <mu2>0.9</mu2>
  </gazebo>
  <gazebo reference="wrist_ft_sensor_frame">
    <selfCollide>false</selfCollide>
    <gravity>true</gravity>
    <mu1>0.9</mu1>
    <mu2>0.9</mu2>
  </gazebo>
  <gazebo reference="wrist_flex_joint">
  </gazebo>
  <gazebo reference="wrist_roll_joint">
  </gazebo>
  <transmission name="wrist_flex_joint_transmission">
    <type>transmission_interface/SimpleTransmission</type>
    <joint name="wrist_flex_joint">
      <hardwareInterface>PositionJointInterface</hardwareInterface>
    </joint>
    <actuator name="wrist_flex_joint_actuator">
      <hardwareInterface>PositionJointInterface</hardwareInterface>
      <mechanicalReduction>1</mechanicalReduction>
    </actuator>
  </transmission>
  <transmission name="wrist_roll_joint_transmission">
    <type>transmission_interface/SimpleTransmission</type>
    <joint name="wrist_roll_joint">
      <hardwareInterface>PositionJointInterface</hardwareInterface>
    </joint>
    <actuator name="wrist_roll_joint_actuator">
      <hardwareInterface>PositionJointInterface</hardwareInterface>
      <mechanicalReduction>1</mechanicalReduction>
    </actuator>
  </transmission>
  <joint name="hand_palm_joint" type="fixed">
    <origin rpy="0.0 0.0 3.14159265359" xyz="0.012 0.0 0.1405"/>
    <parent link="wrist_roll_link"/>
    <child link="hand_palm_link"/>
  </joint>
  <link name="hand_palm_link">
    <inertial>
      <mass value="0.15"/>
      <inertia ixx="0.015" ixy="0.0" ixz="0.0" iyy="0.015" iyz="0.0" izz="0.015"/>
    </inertial>
    <visual>
      <geometry>
        <mesh filename="package://hsr_meshes/meshes/hand_v0/palm.obj"/>
      </geometry>
      <material name="body_sub"/>
    </visual>
    <collision>
      <geometry>
        <mesh filename="package://hsr_meshes/meshes/hand_v0/palm.obj"/>
      </geometry>
    </collision>
  </link>
  <joint name="hand_motor_joint" type="revolute">
    <axis xyz="1.0 0.0 0.0"/>
    <limit effort="100.0" lower="-0.798" upper="1.24" velocity="1.0"/>
    <parent link="hand_palm_link"/>
    <child link="hand_motor_dummy_link"/>
    <dynamics damping="1.0"/>
  </joint>
  <link name="hand_motor_dummy_link">
    <inertial>
      <mass value="0.15"/>
      <inertia ixx="0.015" ixy="0.0" ixz="0.0" iyy="0.015" iyz="0.0" izz="0.015"/>
    </inertial>
  </link>
  <joint name="gripper_tool_joint" type="fixed">
    <origin rpy="0.0 0.0 1.5707963267948963" xyz="0.0 0.0 0.23090002"/>
    <parent link="wrist_roll_link" />
    <child link="gripper_tool_frame"/>
  </joint>
  <link name="gripper_tool_frame"/>
  <joint name="hand_l_proximal_joint" type="revolute">
    <origin rpy="0.0 0.0 0.0" xyz="-0.01675 -0.0245 -0.0175"/>
    <axis xyz="1.0 0.0 0.0"/>
    <limit effort="100.0" lower="-0.798" upper="1.24" velocity="1.0"/>
    <parent link="hand_palm_link"/>
    <child link="hand_l_proximal_link"/>
    <mimic joint="hand_motor_joint"/>
    <dynamics damping="1.0"/>
  </joint>
  <link name="hand_l_proximal_link">
    <inertial>
      <mass value="0.15"/>
      <inertia ixx="0.015" ixy="0.0" ixz="0.0" iyy="0.015" iyz="0.0" izz="0.015"/>
    </inertial>
  </link>
  <joint name="hand_l_spring_proximal_joint" type="revolute">
    <axis xyz="1.0 0.0 0.0"/>
    <limit effort="100.0" lower="0.0" upper="0.698" velocity="1.0"/>
    <parent link="hand_l_proximal_link"/>
    <child link="hand_l_spring_proximal_link"/>
    <dynamics damping="1.0"/>
  </joint>
  <link name="hand_l_spring_proximal_link">
    <inertial>
      <mass value="0.043589"/>
      <origin xyz="0.021418 0.00248 0.022688"/>
      <inertia ixx="0.000026033886" ixy="-0.000000144078" ixz="-0.00000198241" iyy="0.000028824811" iyz="-0.000001268421" izz="0.000005135919"/>
    </inertial>
    <visual>
      <geometry>
        <mesh filename="package://hsr_meshes/meshes/hand_v0/l_proximal.obj"/>
      </geometry>
      <material name="body_sub"/>
    </visual>
    <collision>
      <geometry>
        <mesh filename="package://hsr_meshes/meshes/hand_v0/l_proximal.obj"/>
      </geometry>
    </collision>
  </link>
  <joint name="hand_l_mimic_distal_joint" type="revolute">
    <origin xyz="0.0 0.0 0.07"/>
    <axis xyz="1.0 0.0 0.0"/>
    <limit effort="100.0" lower="-0.698" upper="-0.0" velocity="1.0"/>
    <parent link="hand_l_spring_proximal_link"/>
    <child link="hand_l_mimic_distal_link"/>
    <mimic joint="hand_l_spring_proximal_joint" multiplier="-1.0"/>
    <dynamics damping="1.0"/>
  </joint>
  <link name="hand_l_mimic_distal_link">
    <inertial>
      <mass value="0.15"/>
      <inertia ixx="0.015" ixy="0.0" ixz="0.0" iyy="0.015" iyz="0.0" izz="0.015"/>
    </inertial>
  </link>
  <joint name="hand_l_distal_joint" type="revolute">
    <axis xyz="1.0 0.0 0.0"/>
    <limit effort="100.0" lower="-1.24" upper="0.798" velocity="1.0"/>
    <parent link="hand_l_mimic_distal_link"/>
    <child link="hand_l_distal_link"/>
    <mimic joint="hand_motor_joint" multiplier="-1.0" offset="-0.087"/>
    <dynamics damping="1.0"/>
  </joint>
  <link name="hand_l_distal_link">
    <inertial>
      <mass value="0.027731"/>
      <origin xyz="0.011116 0.005679 0.017532"/>
      <inertia ixx="0.000004451952" ixy="0.0" ixz="0.0" iyy="0.000000503765" iyz="0.0" izz="0.000004456764"/>
    </inertial>
    <visual>
      <geometry>
        <mesh filename="package://hsr_meshes/meshes/hand_v0/l_distal.obj"/>
      </geometry>
      <material name="body_sub"/>
    </visual>
    <collision>
      <geometry>
        <mesh filename="package://hsr_meshes/meshes/hand_v0/l_distal.obj"/>
      </geometry>
    </collision>
  </link>
  <joint name="hand_l_finger_tip_frame_joint" type="fixed">
    <origin rpy="-1.5707963268 0.0 0.0" xyz="0.01675 0.0193 0.0379"/>
    <parent link="hand_l_distal_link"/>
    <child link="hand_l_finger_tip_frame"/>
  </joint>
  <link name="hand_l_finger_tip_frame">
    <inertial>
      <mass value="0.15"/>
      <inertia ixx="0.015" ixy="0.0" ixz="0.0" iyy="0.015" iyz="0.0" izz="0.015"/>
    </inertial>
  </link>
  <joint name="hand_l_finger_vacuum_frame_joint" type="fixed">
    <origin rpy="0.785398163398 0.0 0.0" xyz="0.00475 -0.011539 0.03322"/>
    <parent link="hand_l_distal_link"/>
    <child link="hand_l_finger_vacuum_frame"/>
  </joint>
  <link name="hand_l_finger_vacuum_frame">
    <inertial>
      <mass value="0.15"/>
      <inertia ixx="0.015" ixy="0.0" ixz="0.0" iyy="0.015" iyz="0.0" izz="0.015"/>
    </inertial>
    <visual>
      <origin rpy="0.0 0.0 0.0" xyz="0.0 0.0 -0.01"/>
      <geometry>
        <box size="0.008 0.008 0.02"/>
      </geometry>
      <material name="body_sub"/>
    </visual>
  </link>
  <joint name="hand_r_proximal_joint" type="revolute">
    <origin rpy="0.0 0.0 0.0" xyz="-0.01675 0.0245 -0.0175"/>
    <axis xyz="-1.0 0.0 0.0"/>
    <limit effort="100.0" lower="-0.798" upper="1.24" velocity="1.0"/>
    <parent link="hand_palm_link"/>
    <child link="hand_r_proximal_link"/>
    <mimic joint="hand_motor_joint"/>
    <dynamics damping="1.0"/>
  </joint>
  <link name="hand_r_proximal_link">
    <inertial>
      <mass value="0.15"/>
      <inertia ixx="0.015" ixy="0.0" ixz="0.0" iyy="0.015" iyz="0.0" izz="0.015"/>
    </inertial>
  </link>
  <joint name="hand_r_spring_proximal_joint" type="revolute">
    <axis xyz="-1.0 0.0 0.0"/>
    <limit effort="100.0" lower="0.0" upper="0.698" velocity="1.0"/>
    <parent link="hand_r_proximal_link"/>
    <child link="hand_r_spring_proximal_link"/>
    <dynamics damping="1.0"/>
  </joint>
  <link name="hand_r_spring_proximal_link">
    <inertial>
      <mass value="0.043956"/>
      <origin xyz="0.013203 0.002096 0.023311"/>
      <inertia ixx="0.00002623664" ixy="0.00000001631" ixz="0.000001281845" iyy="0.000028838232" iyz="-0.000001621709" izz="0.000004957151"/>
    </inertial>
    <visual>
      <geometry>
        <mesh filename="package://hsr_meshes/meshes/hand_v0/r_proximal.obj"/>
      </geometry>
      <material name="body_sub"/>
    </visual>
    <collision>
      <geometry>
        <mesh filename="package://hsr_meshes/meshes/hand_v0/r_proximal.obj"/>
      </geometry>
    </collision>
  </link>
  <joint name="hand_r_mimic_distal_joint" type="revolute">
    <origin xyz="0.0 0.0 0.07"/>
    <axis xyz="-1.0 0.0 0.0"/>
    <limit effort="100.0" lower="-0.698" upper="-0.0" velocity="1.0"/>
    <parent link="hand_r_spring_proximal_link"/>
    <child link="hand_r_mimic_distal_link"/>
    <mimic joint="hand_r_spring_proximal_joint" multiplier="-1.0"/>
    <dynamics damping="1.0"/>
  </joint>
  <link name="hand_r_mimic_distal_link">
    <inertial>
      <mass value="0.15"/>
      <inertia ixx="0.015" ixy="0.0" ixz="0.0" iyy="0.015" iyz="0.0" izz="0.015"/>
    </inertial>
  </link>
  <joint name="hand_r_distal_joint" type="revolute">
    <axis xyz="-1.0 0.0 0.0"/>
    <limit effort="100.0" lower="-1.24" upper="0.798" velocity="1.0"/>
    <parent link="hand_r_mimic_distal_link"/>
    <child link="hand_r_distal_link"/>
    <mimic joint="hand_motor_joint" multiplier="-1.0" offset="-0.087"/>
    <dynamics damping="1.0"/>
  </joint>
  <link name="hand_r_distal_link">
    <inertial>
      <mass value="0.020927"/>
      <origin xyz="0.014256 -0.008321 0.015591"/>
      <inertia ixx="0.00000307518" ixy="-0.00000004954" ixz="0.000000009481" iyy="0.000004074079" iyz="0.000000843648" izz="0.000002807795"/>
    </inertial>
    <visual>
      <geometry>
        <mesh filename="package://hsr_meshes/meshes/hand_v0/r_distal.obj"/>
      </geometry>
      <material name="body_sub"/>
    </visual>
    <collision>
      <geometry>
        <mesh filename="package://hsr_meshes/meshes/hand_v0/r_distal.obj"/>
      </geometry>
    </collision>
  </link>
  <joint name="hand_r_finger_tip_frame_joint" type="fixed">
    <origin rpy="1.5707963268 0.0 0.0" xyz="0.01675 -0.0193 0.0379"/>
    <parent link="hand_r_distal_link"/>
    <child link="hand_r_finger_tip_frame"/>
  </joint>
  <link name="hand_r_finger_tip_frame">
    <inertial>
      <mass value="0.15"/>
      <inertia ixx="0.015" ixy="0.0" ixz="0.0" iyy="0.015" iyz="0.0" izz="0.015"/>
    </inertial>
  </link>
  <joint name="hand_camera_frame_joint" type="fixed">
    <origin rpy="0.0 0.0 0.0" xyz="0.039 0.0 -0.0045"/>
    <parent link="hand_palm_link"/>
    <child link="hand_camera_frame"/>
  </joint>
  <link name="hand_camera_frame"/>
  <joint name="hand_camera_gazebo_frame_joint" type="fixed">
    <origin rpy="1.5707963268 -1.5707963268 0" xyz="0 0 0"/>
    <parent link="hand_camera_frame"/>
    <child link="hand_camera_gazebo_frame"/>
  </joint>
  <link name="hand_camera_gazebo_frame"/>
  <gazebo reference="hand_camera_gazebo_frame">
    <sensor name="hand_camera" type="camera">
      <update_rate>10.0</update_rate>
      <camera name="hand_camera">
        <horizontal_fov>2.00</horizontal_fov>
        <image>
          <width>640</width>
          <height>480</height>
          <format>R8G8B8</format>
        </image>
        <clip>
          <near>0.05</near>
          <far>100</far>
        </clip>
        <noise>
          <type>gaussian</type>
          <mean>0.0</mean>
          <stddev>0.007</stddev>
        </noise>
      </camera>
      <plugin filename="libhsrb_gazebo_ros_camera.so" name="camera_controller">
        <robotNamespace>hsrb</robotNamespace>
        <alwaysOn>0</alwaysOn>
        <updateRate>0.0</updateRate>
        <cameraName>hand_camera</cameraName>
        <imageTopicName>image_raw</imageTopicName>
        <cameraInfoTopicName>camera_info</cameraInfoTopicName>
        <frameName>hand_camera_frame</frameName>
        <hackBaseline>0.07</hackBaseline>
        <distortionK1>0.0</distortionK1>
        <distortionK2>0.0</distortionK2>
        <distortionK3>0.0</distortionK3>
        <distortionT1>0.0</distortionT1>
        <distortionT2>0.0</distortionT2>
      </plugin>
    </sensor>
  </gazebo>
  <gazebo reference="hand_palm_link">
    <selfCollide>false</selfCollide>
    <gravity>true</gravity>
    <mu1>0.9</mu1>
    <mu2>0.9</mu2>
  </gazebo>
  <gazebo reference="hand_camera_frame">
    <selfCollide>false</selfCollide>
    <gravity>false</gravity>
    <mu1>0.9</mu1>
    <mu2>0.9</mu2>
  </gazebo>
  <gazebo reference="hand_l_proximal_link">
    <selfCollide>false</selfCollide>
    <gravity>true</gravity>
    <mu1>1.0</mu1>
    <mu2>1.0</mu2>
  </gazebo>
  <gazebo reference="hand_l_spring_proximal_link">
    <selfCollide>false</selfCollide>
    <gravity>true</gravity>
    <mu1>1.0</mu1>
    <mu2>1.0</mu2>
  </gazebo>
  <gazebo reference="hand_l_mimic_distal_link">
    <selfCollide>false</selfCollide>
    <gravity>true</gravity>
    <mu1>1.0</mu1>
    <mu2>1.0</mu2>
  </gazebo>
  <gazebo reference="hand_l_distal_link">
    <selfCollide>false</selfCollide>
    <gravity>true</gravity>
    <mu1>1.0</mu1>
    <mu2>1.0</mu2>
  </gazebo>
  <gazebo reference="hand_l_finger_tip_frame">
    <selfCollide>false</selfCollide>
    <gravity>false</gravity>
    <mu1>1.0</mu1>
    <mu2>1.0</mu2>
  </gazebo>
  <gazebo reference="hand_l_finger_vacuum_frame">
    <selfCollide>false</selfCollide>
    <gravity>false</gravity>
    <mu1>1.0</mu1>
    <mu2>1.0</mu2>
  </gazebo>
  <gazebo reference="hand_r_proximal_link">
    <selfCollide>false</selfCollide>
    <gravity>true</gravity>
    <mu1>1.0</mu1>
    <mu2>1.0</mu2>
  </gazebo>
  <gazebo reference="hand_r_spring_proximal_link">
    <selfCollide>false</selfCollide>
    <gravity>true</gravity>
    <mu1>1.0</mu1>
    <mu2>1.0</mu2>
  </gazebo>
  <gazebo reference="hand_r_mimic_distal_link">
    <selfCollide>false</selfCollide>
    <gravity>true</gravity>
    <mu1>1.0</mu1>
    <mu2>1.0</mu2>
  </gazebo>
  <gazebo reference="hand_r_distal_link">
    <selfCollide>false</selfCollide>
    <gravity>false</gravity>
    <mu1>1.0</mu1>
    <mu2>1.0</mu2>
  </gazebo>
  <gazebo reference="hand_r_finger_tip_frame">
    <selfCollide>false</selfCollide>
    <gravity>false</gravity>
    <mu1>1.0</mu1>
    <mu2>1.0</mu2>
  </gazebo>
  <gazebo reference="hand_palm_joint">
  </gazebo>
  <gazebo reference="hand_motor_joint">
  </gazebo>
  <gazebo reference="hand_l_proximal_joint">
  </gazebo>
  <gazebo reference="hand_l_spring_proximal_joint">
  </gazebo>
  <gazebo reference="hand_l_mimic_distal_joint">
  </gazebo>
  <gazebo reference="hand_l_distal_joint">
  </gazebo>
  <gazebo reference="hand_r_proximal_joint">
  </gazebo>
  <gazebo reference="hand_r_spring_proximal_joint">
  </gazebo>
  <gazebo reference="hand_r_mimic_distal_joint">
  </gazebo>
  <gazebo reference="hand_r_distal_joint">
  </gazebo>
  <gazebo>
        </gazebo>
  <transmission name="hand_motor_joint_transmission">
    <type>transmission_interface/SimpleTransmission</type>
    <joint name="hand_motor_joint">
      <hardwareInterface>EffortJointInterface</hardwareInterface>
    </joint>
    <actuator name="hand_motor_joint_actuator">
      <hardwareInterface>EffortJointInterface</hardwareInterface>
      <mechanicalReduction>1</mechanicalReduction>
    </actuator>
  </transmission>
  <transmission name="hand_l_spring_proximal_joint_transmission">
    <type>transmission_interface/SimpleTransmission</type>
    <joint name="hand_l_spring_proximal_joint">
      <hardwareInterface>EffortJointInterface</hardwareInterface>
    </joint>
    <actuator name="hand_l_spring_proximal_joint_actuator">
      <hardwareInterface>EffortJointInterface</hardwareInterface>
      <mechanicalReduction>1</mechanicalReduction>
    </actuator>
  </transmission>
  <transmission name="hand_r_spring_proximal_joint_transmission">
    <type>transmission_interface/SimpleTransmission</type>
    <joint name="hand_r_spring_proximal_joint">
      <hardwareInterface>EffortJointInterface</hardwareInterface>
    </joint>
    <actuator name="hand_r_spring_proximal_joint_actuator">
      <hardwareInterface>EffortJointInterface</hardwareInterface>
      <mechanicalReduction>1</mechanicalReduction>
    </actuator>
  </transmission>
  <gazebo>
    <plugin filename="libhsrb_gazebo_ros_control.so" name="hsrb_ros_control">
      <robotNamespace>hsrb</robotNamespace>
    </plugin>
    <plugin filename="libgazebo_ros_p3d.so" name="hsrb_p3d_ground_truth">
      <robotNamespace>hsrb</robotNamespace>
      <bodyName>base_footprint</bodyName>
      <topicName>odom_ground_truth</topicName>
      <frameName>map</frameName>
      <updateRate>30</updateRate>
    </plugin>
  </gazebo>
</robot>
